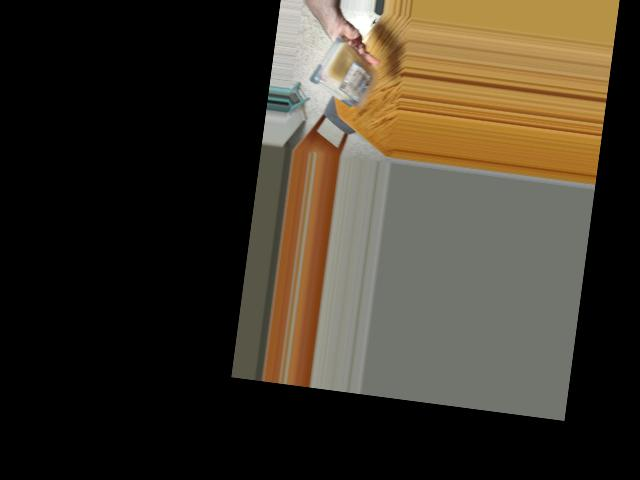cheese: (310, 35, 375, 114)
